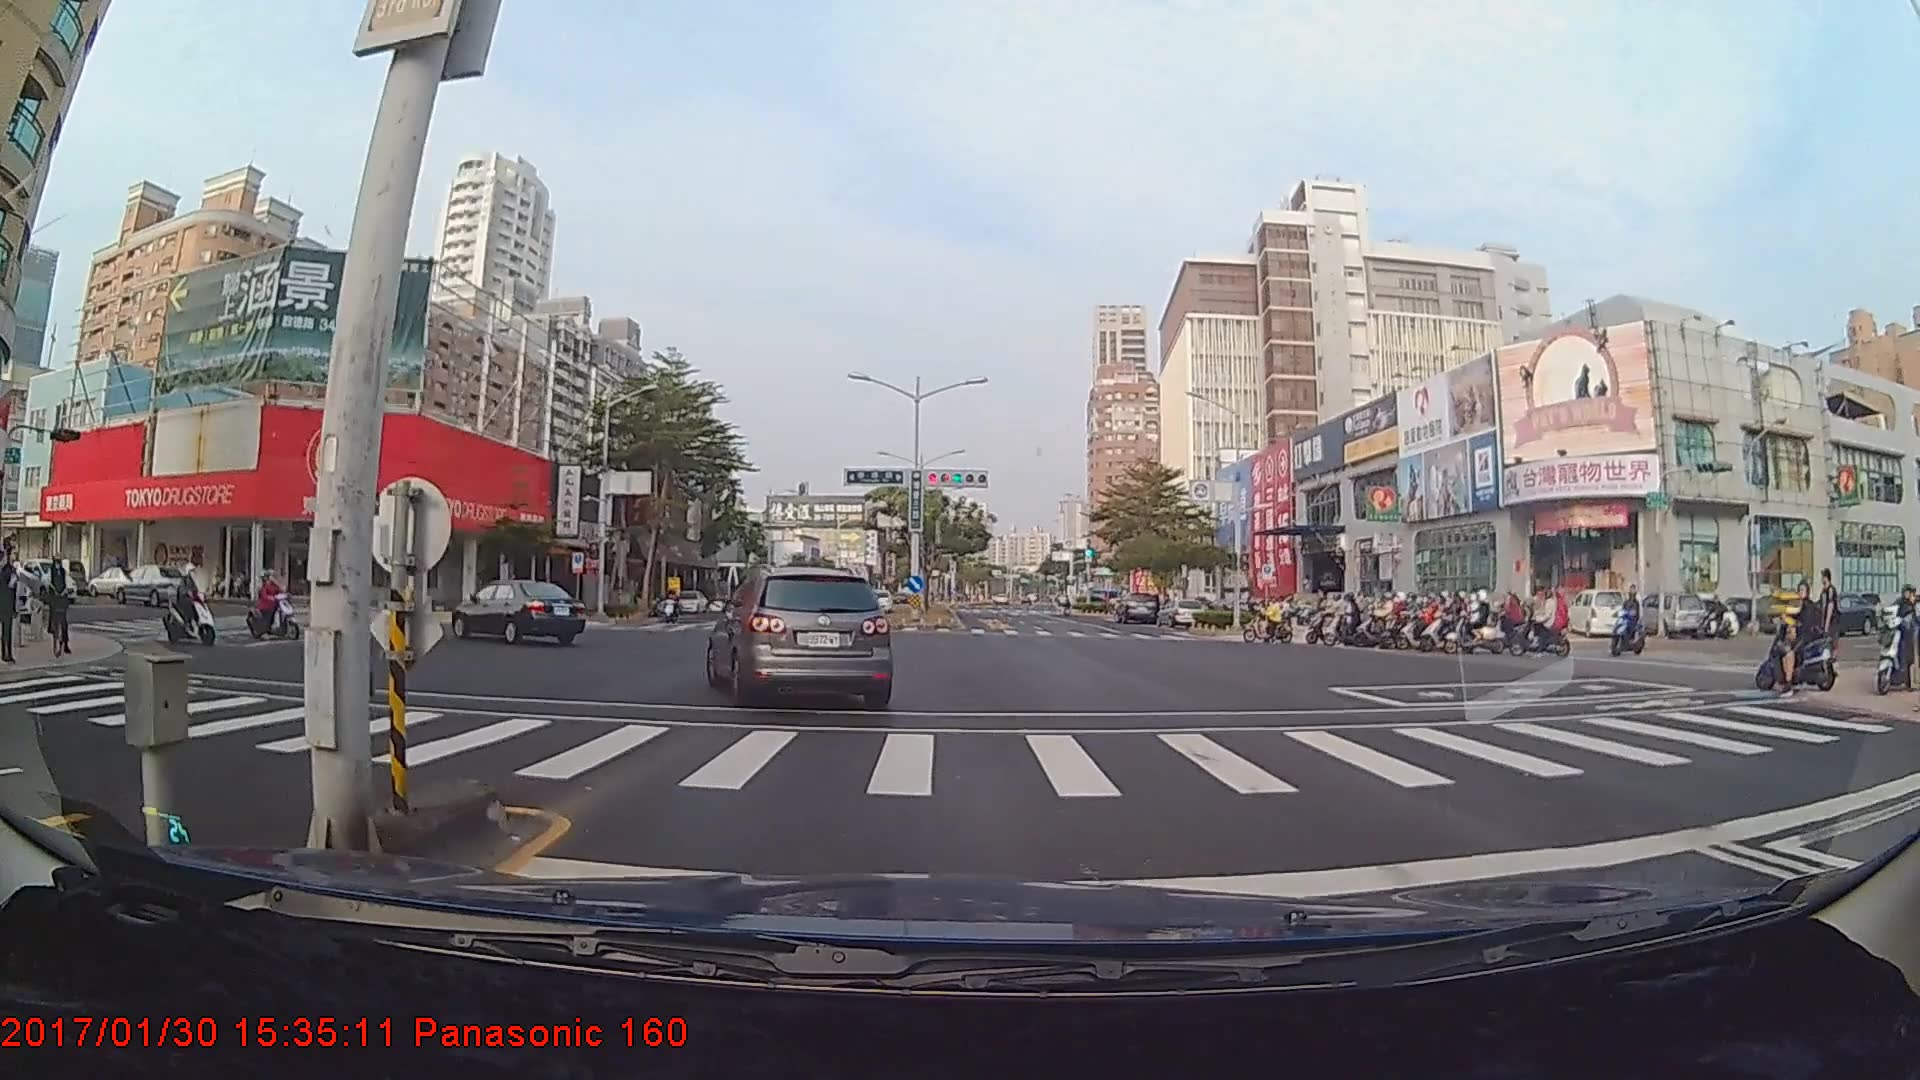pedestrian: (1814, 568, 1843, 681), (1, 551, 22, 663)
rider: (1761, 572, 1849, 697), (160, 560, 229, 648), (1507, 578, 1577, 663), (242, 573, 305, 642), (37, 555, 71, 662), (1457, 589, 1509, 653), (1295, 592, 1355, 645), (1428, 591, 1483, 647), (1345, 594, 1397, 649), (1240, 594, 1297, 642), (1611, 591, 1653, 656), (1401, 599, 1451, 647), (657, 584, 685, 621)
vehicle: (705, 563, 896, 705), (450, 579, 587, 646), (113, 562, 195, 605), (1114, 590, 1159, 624)
